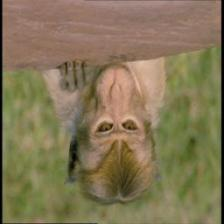monkey: (65, 60, 169, 211)
